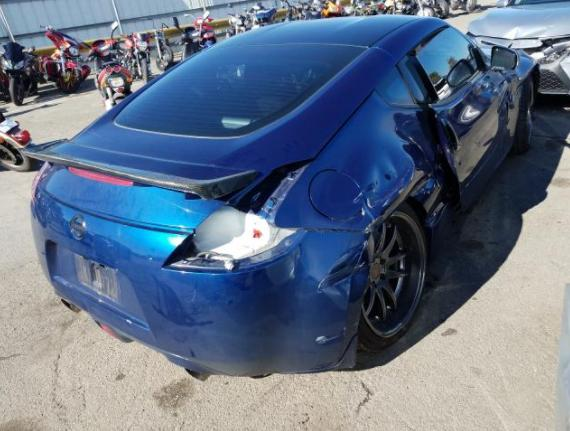Back-bumper: (31, 164, 367, 378)
Back-wheel: (360, 205, 430, 353)
Back-window: (378, 69, 421, 107)
Back-windshield: (115, 40, 371, 140)
Fender: (487, 51, 541, 152)
Front-door: (414, 26, 508, 220)
Front-wheel: (513, 100, 534, 154)
Front-window: (415, 26, 487, 104)
Mirror: (473, 38, 517, 70)
Quarter-panel: (272, 107, 461, 285)
Roof: (219, 15, 424, 49)
Tail-light: (30, 163, 52, 202)
Trunk: (20, 42, 397, 204)
